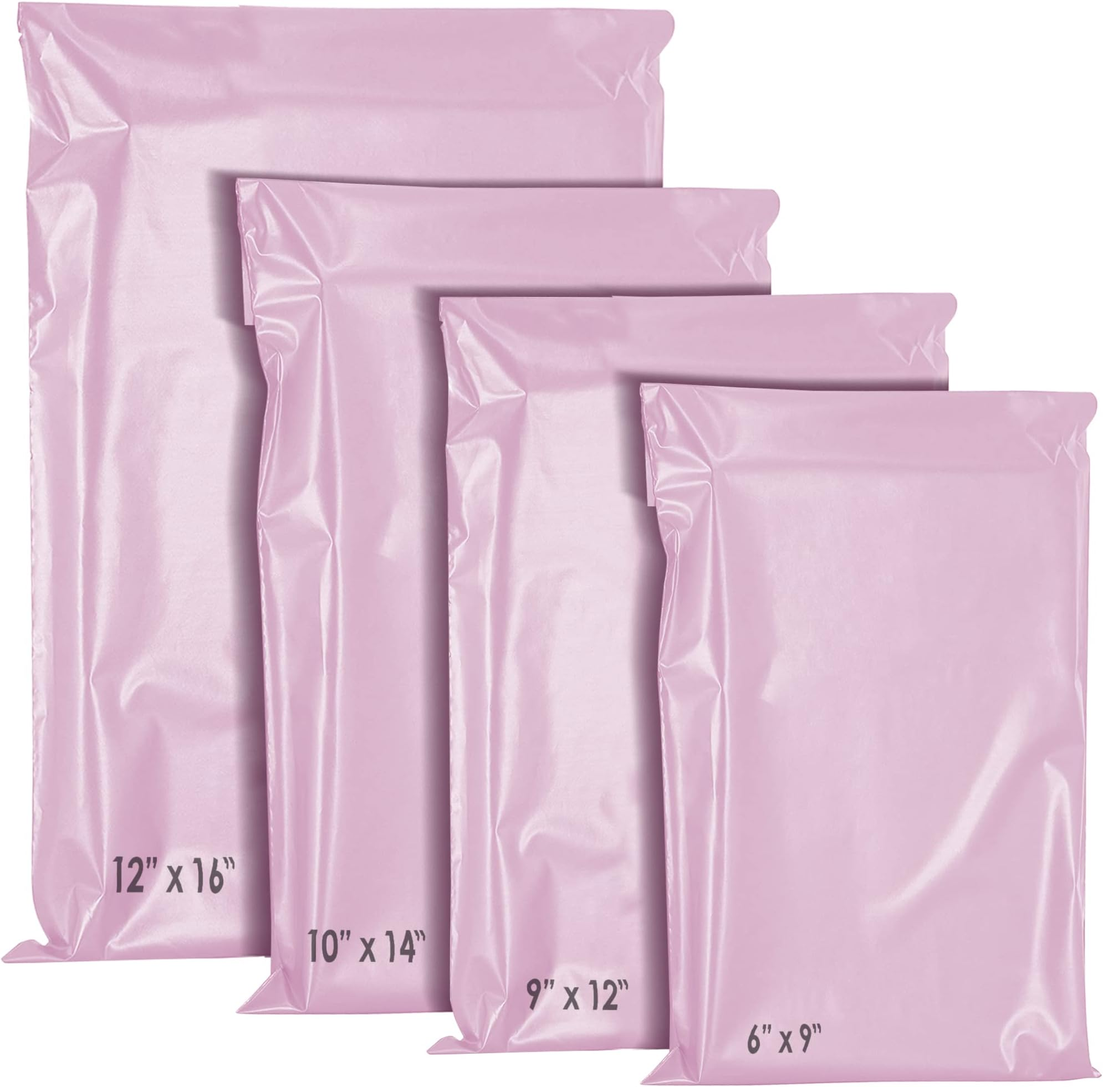塑料袋: (8, 6, 672, 960), (238, 181, 778, 1012), (441, 294, 955, 1051), (642, 384, 1095, 1082)
